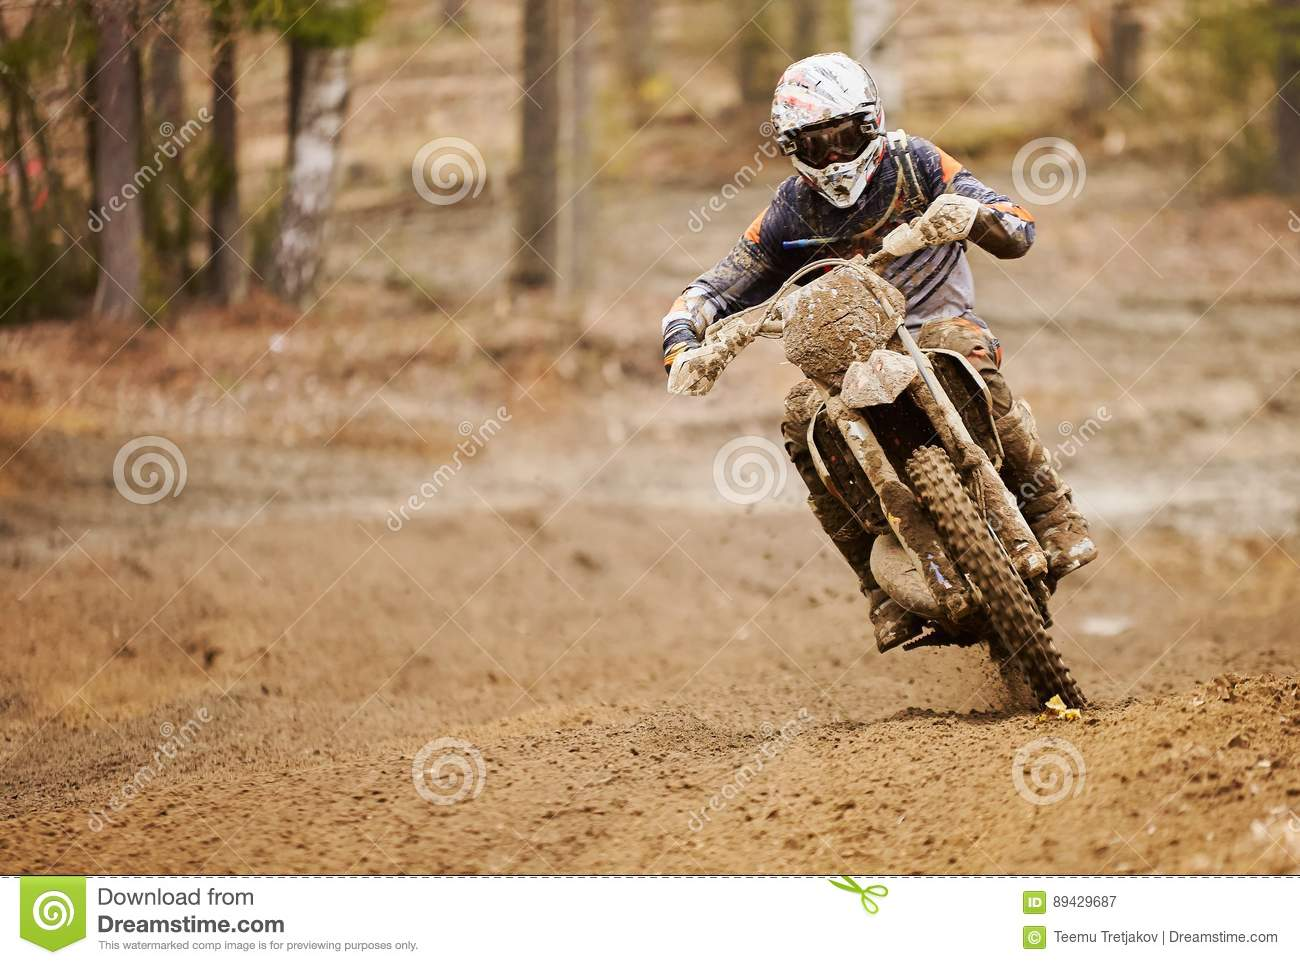helmet: (762, 55, 908, 218)
